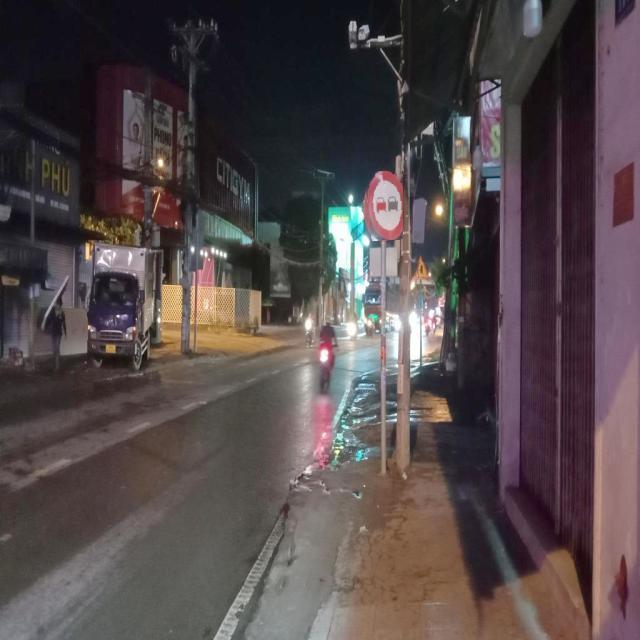125-cam-vuot: (364, 171, 404, 241)
